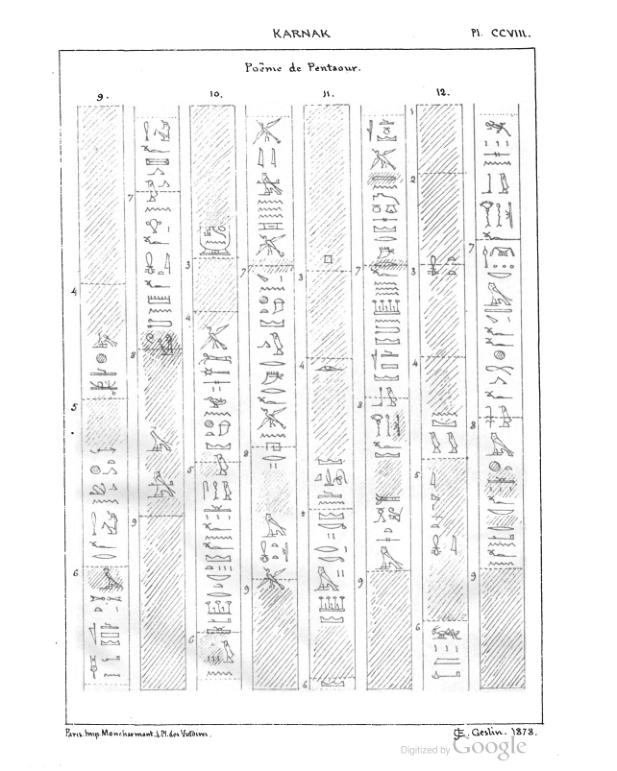circle: (195, 218, 232, 261)
